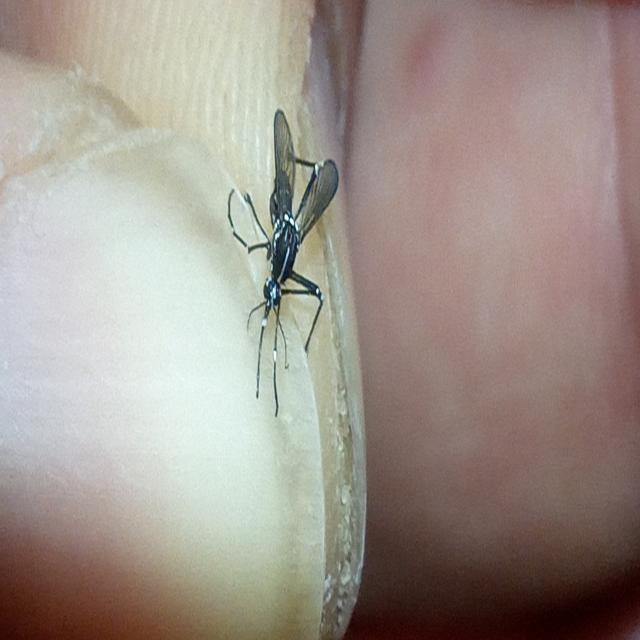albopictus: (215, 102, 337, 430)
